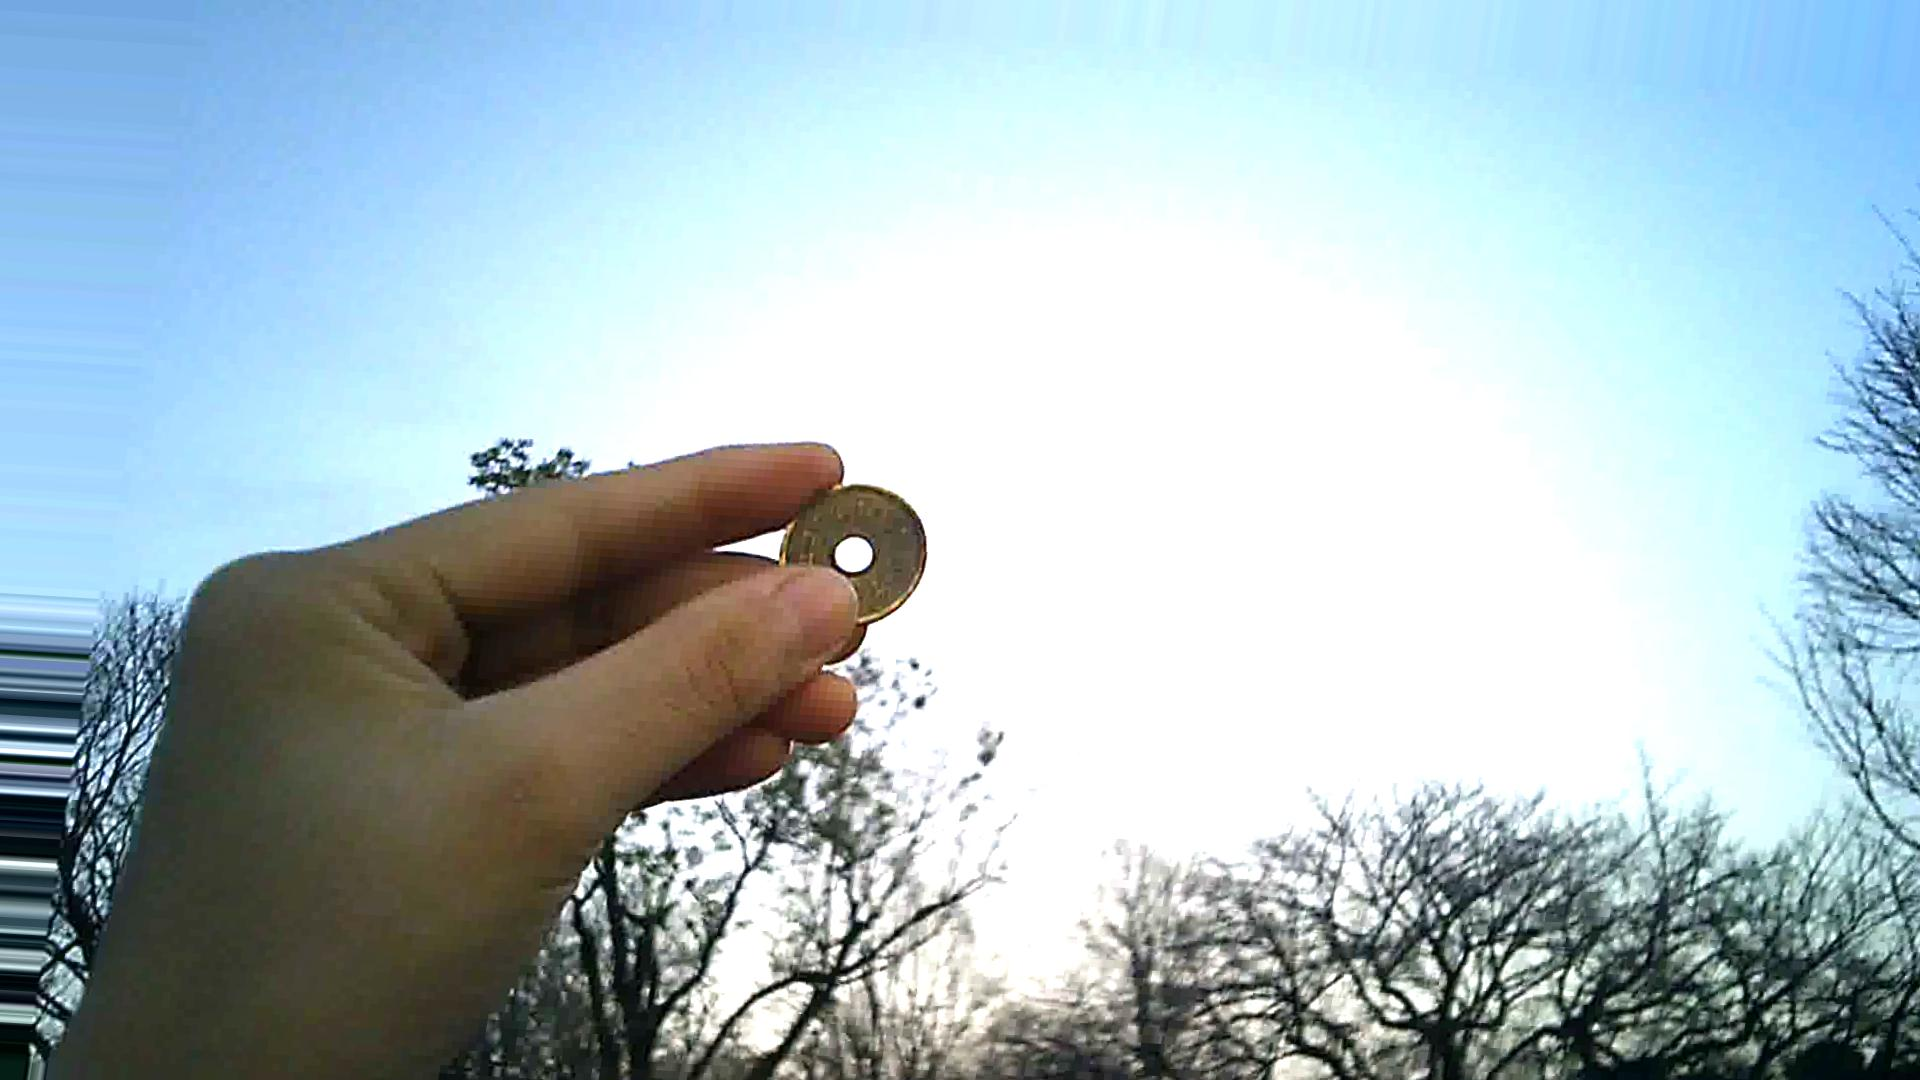5 Yen: (764, 481, 934, 622)
